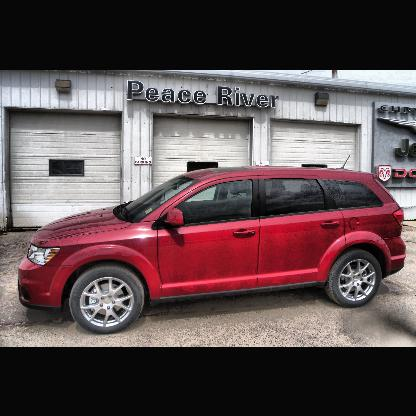Dodge Journey SUV 2012: (18, 156, 406, 336)
